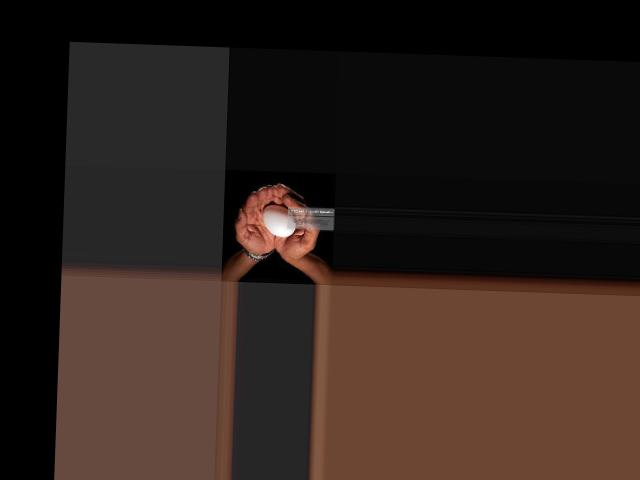egg: (261, 203, 295, 236)
